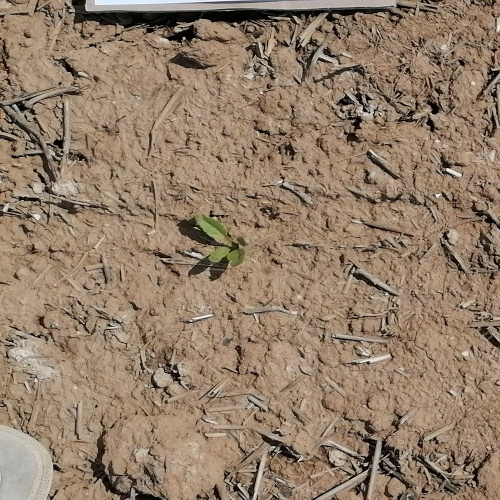beet: (194, 213, 250, 267)
